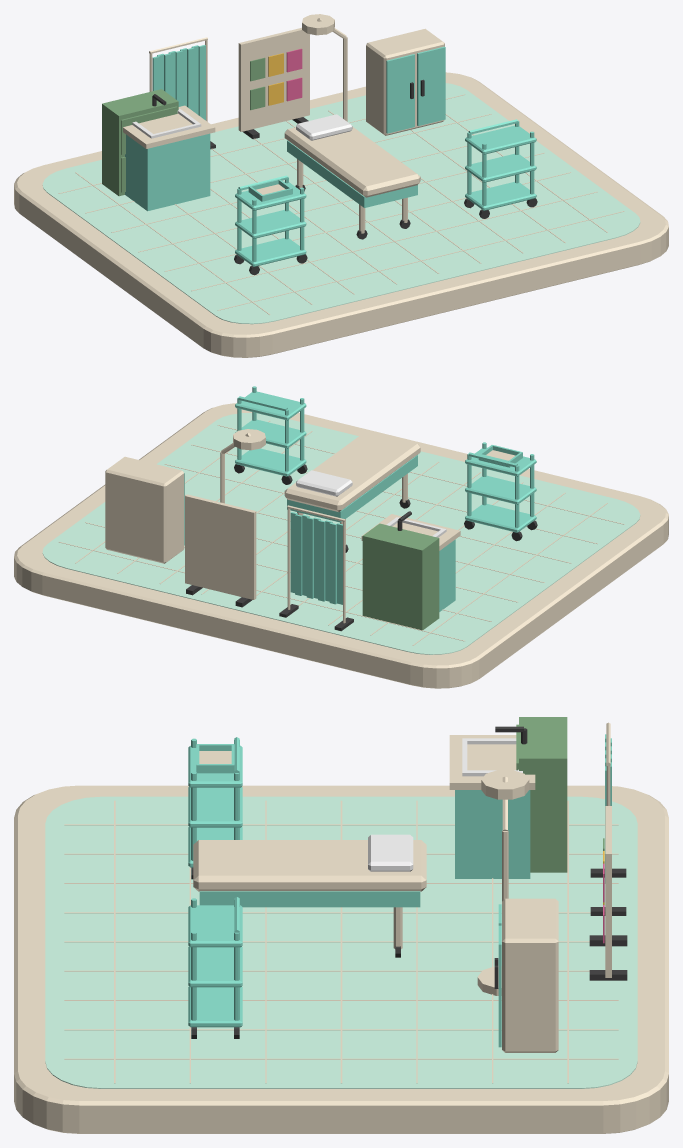
The model's file is room.fbx.
3 renders of one model, top to bottom at view 1: azimuth 30°, elevation 25°; view 2: azimuth 150°, elevation 25°; view 3: azimuth 270°, elevation 25°, orthographic. The views are drawn at different scales.
Visible parts, largest first — view 1: COM-02 Floor Surface, COM-01 Rounded Base Direct, Cabinet, Mattress, Panel, Cabinet.001, Equipment case, Door.001, Door, Counter, Tray.005, Tray.004 (+11 smaller); view 2: COM-02 Floor Surface, COM-01 Rounded Base Direct, Equipment case, Cabinet.001, Panel, Mattress, Tray.001, Tray, Tray.003, Tray.005, Cabinet, Base (+12 smaller); view 3: COM-02 Floor Surface, COM-01 Rounded Base Direct, Mattress, Equipment case, Cabinet.001, Cabinet, Counter, Base, Tray.005, Tray.003, Tray.004, Tray.001 (+13 smaller).
Boxes of the visible parts, <box> form: COM-02 Floor Surface: <box>42,83,640,324</box>; COM-01 Rounded Base Direct: <box>14,72,668,357</box>; Cabinet: <box>125,133,210,211</box>; Mattress: <box>284,127,420,197</box>; Panel: <box>238,27,309,131</box>; Cabinet.001: <box>102,89,178,196</box>; Equipment case: <box>366,28,444,135</box>; Door.001: <box>417,46,445,126</box>; Door: <box>386,54,414,133</box>; Counter: <box>123,105,215,148</box>; Tray.005: <box>465,125,536,154</box>; Tray.004: <box>465,153,536,182</box>; COM-02 Floor Surface: <box>42,413,640,654</box>; COM-01 Rounded Base Direct: <box>14,403,668,688</box>; Equipment case: <box>105,456,184,563</box>; Cabinet.001: <box>362,523,439,630</box>; Panel: <box>185,494,256,599</box>; Mattress: <box>284,431,420,511</box>; Tray.001: <box>465,475,536,504</box>; Tray: <box>465,504,536,532</box>; Tray.003: <box>235,448,306,476</box>; Tray.005: <box>235,391,306,420</box>; Cabinet: <box>439,539,455,611</box>; Base: <box>287,458,417,522</box>; COM-02 Floor Surface: <box>45,796,637,1088</box>; COM-01 Rounded Base Direct: <box>14,785,668,1133</box>; Mattress: <box>193,840,426,891</box>; Equipment case: <box>502,898,558,1052</box>; Cabinet.001: <box>516,717,567,872</box>; Cabinet: <box>455,790,530,878</box>; Counter: <box>449,735,535,789</box>; Base: <box>199,896,420,907</box>; Tray.005: <box>188,905,242,947</box>; Tray.003: <box>188,986,242,1027</box>; Tray.004: <box>188,946,242,987</box>; Tray.001: <box>188,787,242,827</box>.
Size of the model in its own units: 600 by 196 by 520.
